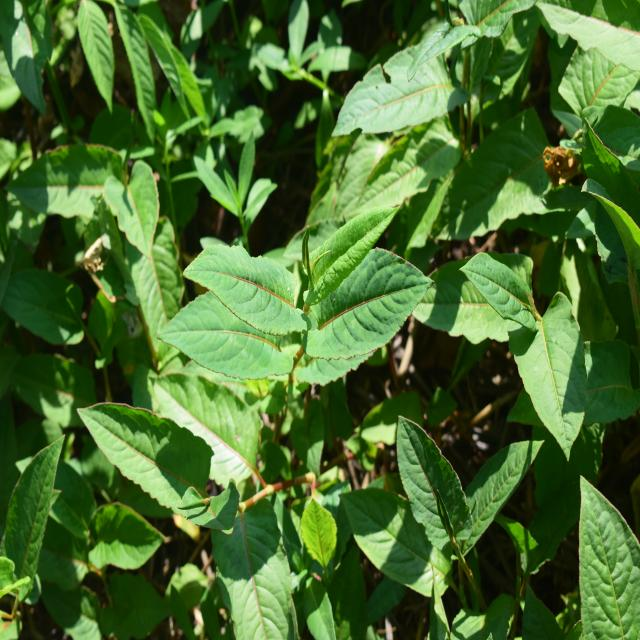Chinese_knotweed: (172, 200, 430, 417)
